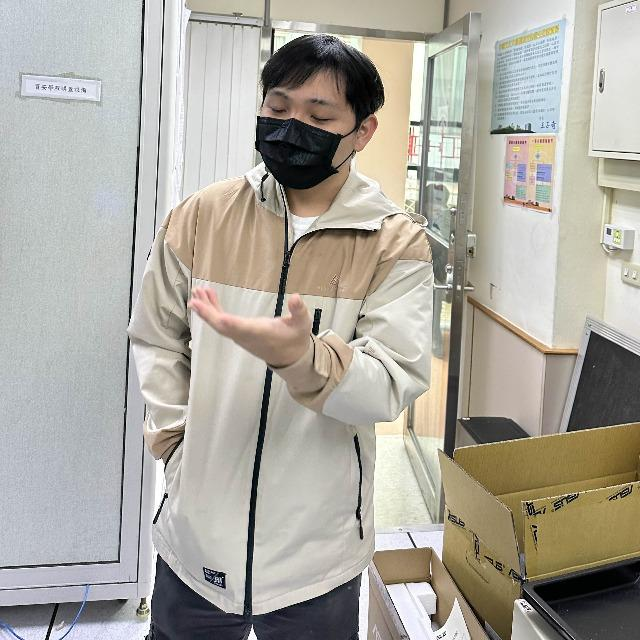NoHelmet: (246, 33, 385, 184)
NoVest: (160, 179, 428, 535)
